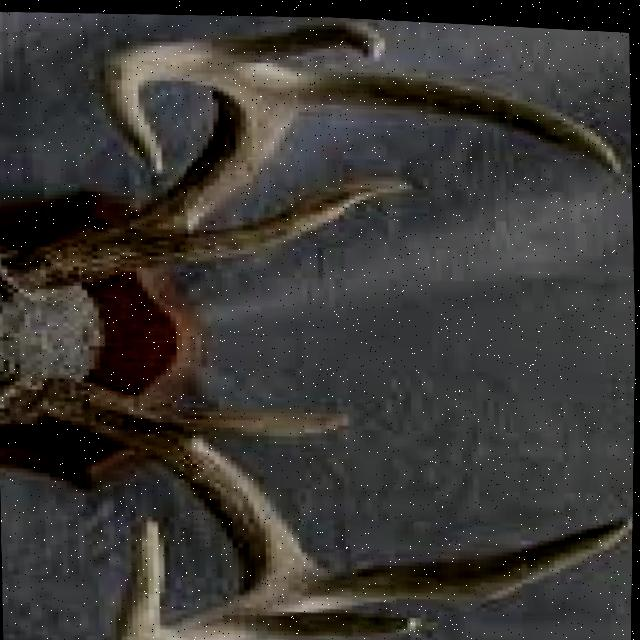L-G1: (171, 403, 356, 437)
L-G2: (282, 508, 634, 607)
L-G3: (253, 609, 424, 640)
L-R: (10, 376, 303, 640)
R-G1: (172, 170, 420, 265)
R-G2: (278, 63, 626, 170)
R-G3: (216, 17, 386, 60)
R-R: (0, 34, 297, 290)
